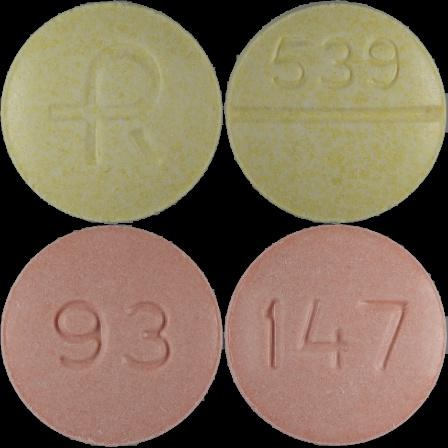0615-3561: (0, 0, 224, 224)
